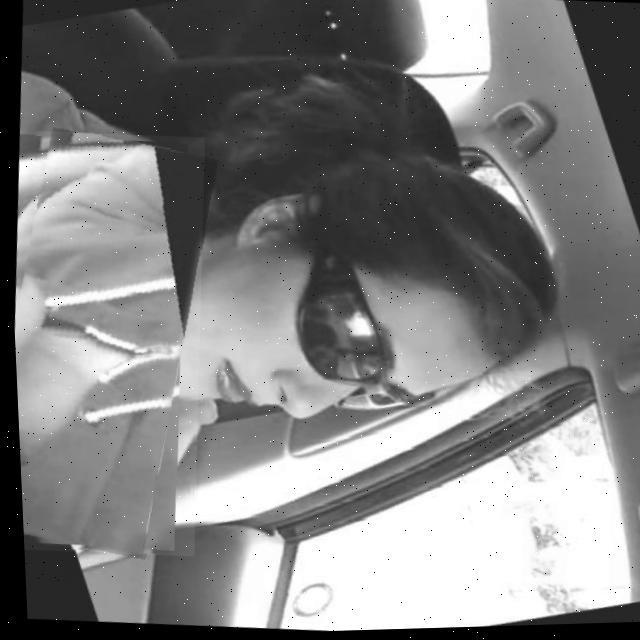no-seatbelt: (5, 125, 217, 561)
